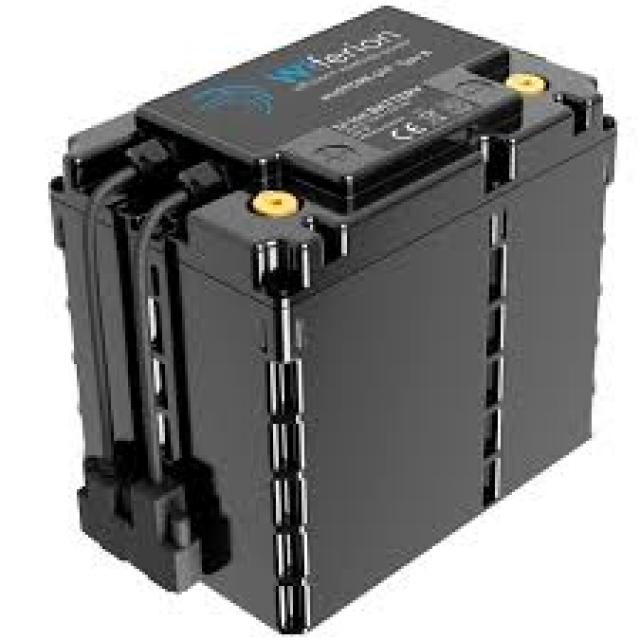non-organic waste: (50, 6, 619, 636)
